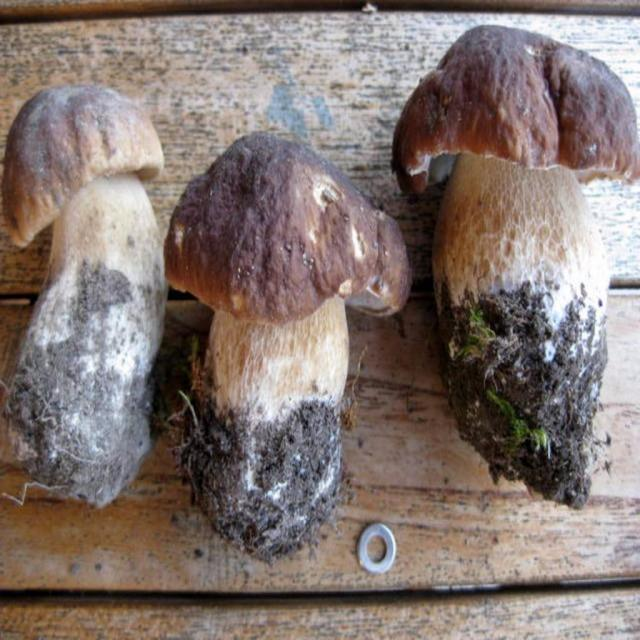Boletus: (393, 23, 640, 507), (156, 135, 410, 555), (5, 85, 165, 511)
